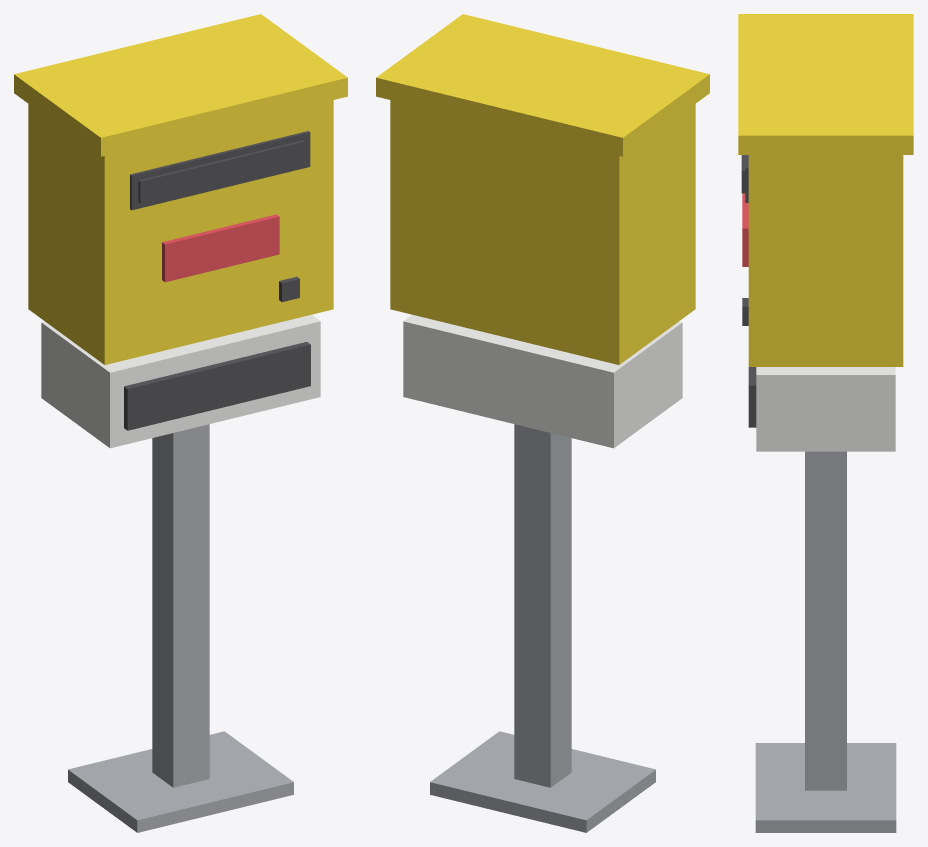
Rendered from th3_briefkasten.glb.
3 views of the same model, side by side, from view 1: azimuth 30°, elevation 25°; view 2: azimuth 150°, elevation 25°; view 3: azimuth 270°, elevation 25° (orthographic).
Parts seen in each view (by area): view 1: Briefkasten; view 2: Briefkasten; view 3: Briefkasten.
Part boxes in pixels (x1,y1,x2,y2): Briefkasten: (14, 14, 347, 832); Briefkasten: (376, 14, 709, 832); Briefkasten: (738, 14, 913, 832).
Bounding box in the file's own units: 0.41 × 1.13 × 0.25.
